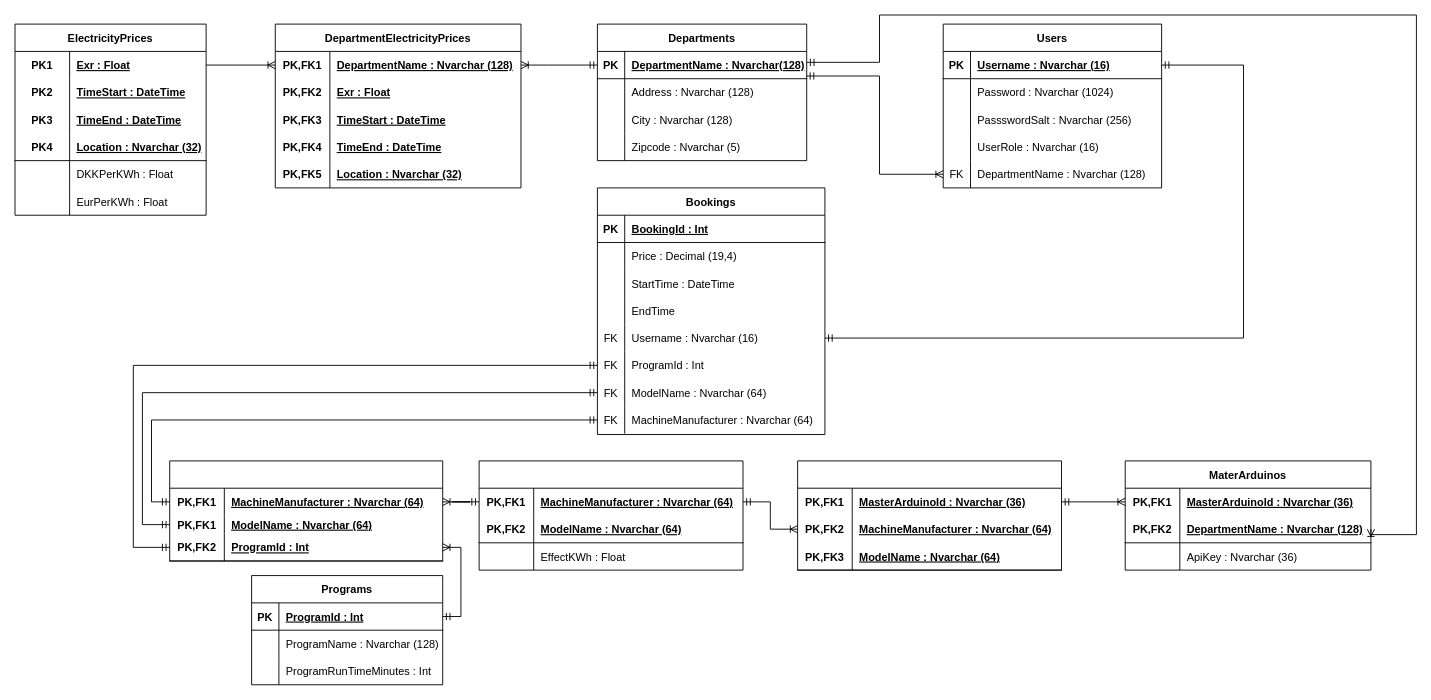
Some shapes in this 1431 by 700 pixel diagram are drawn without their labels. Each missing label, with the box of its shape:
ArduinoMachines: (797, 460, 1062, 570)
MachinePrograms: (169, 460, 443, 561)
Machines: (478, 460, 743, 570)
